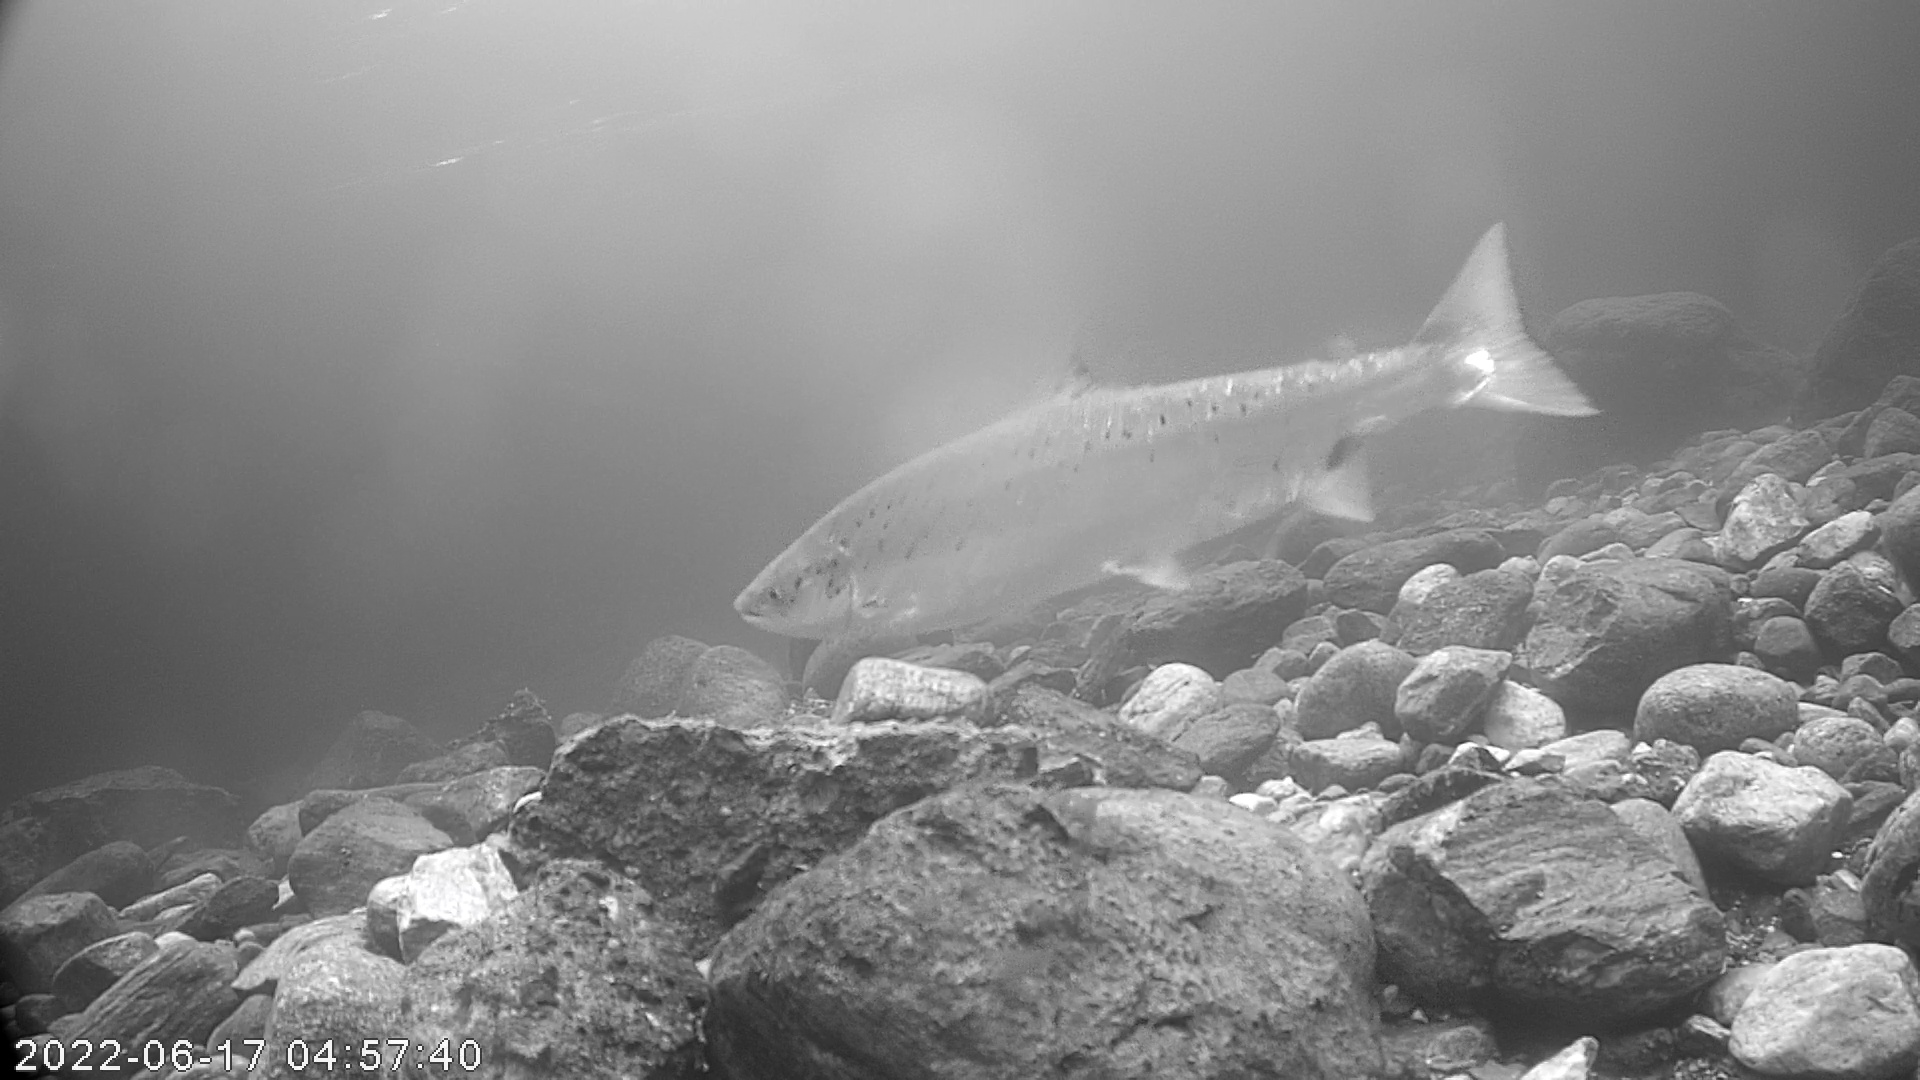salmon: (731, 218, 1604, 642)
